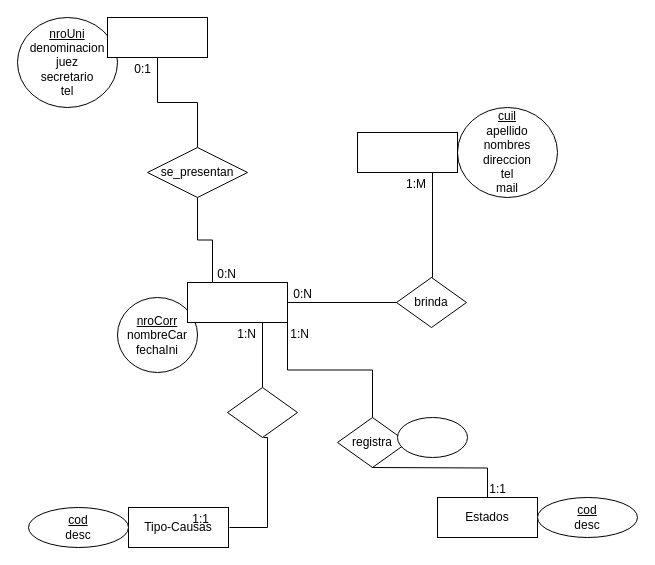
Image size: 655x565. Some labels were removed from this diagram. The shapes that lost their labels are listed below. From the top down, each one's centre as x and y in pixels, then its label:
At (157,37): "Juzgados".
At (407,152): "Personas".
At (237,302): "Expedientes".
At (262,412): "tiene".
At (432,437): "observacion".
